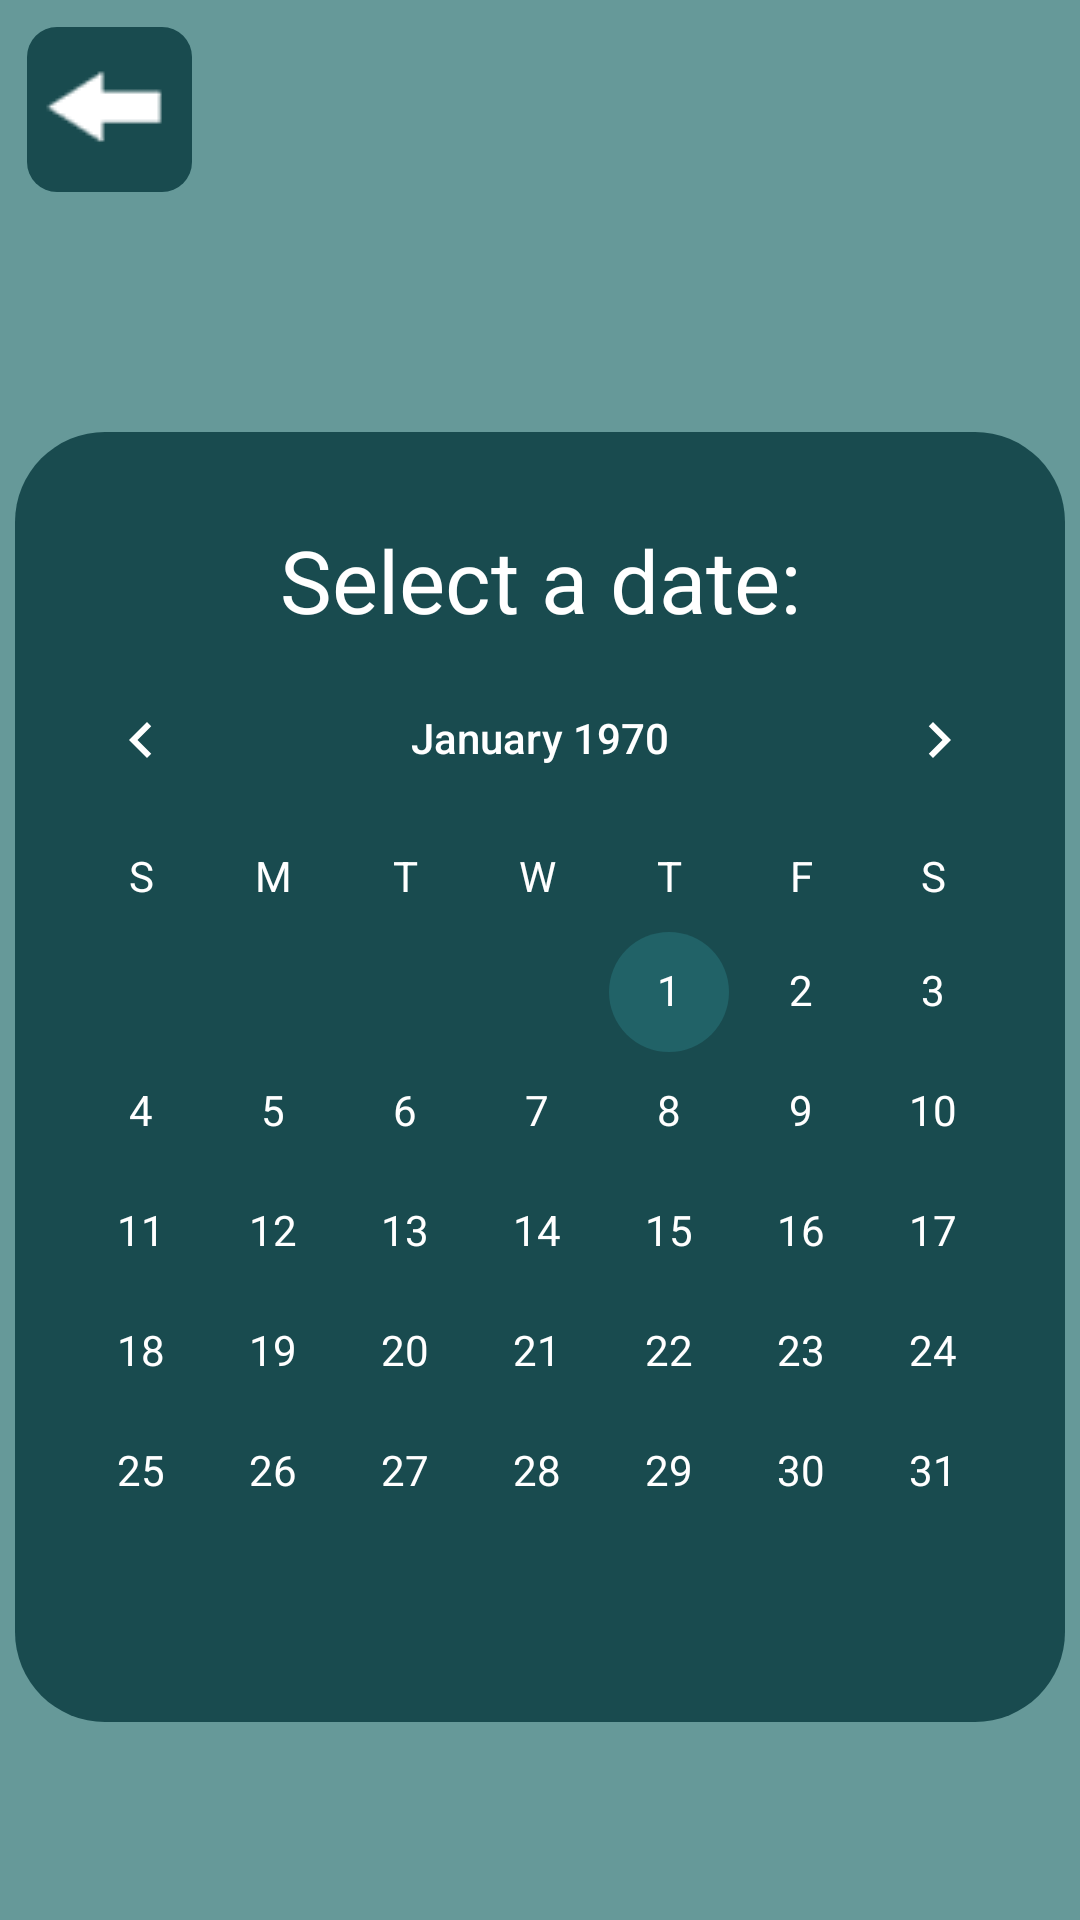

Point at icon controls on the screen. Image size 1080 × 1920, points as point (x, y).
go back: point (109, 109)
